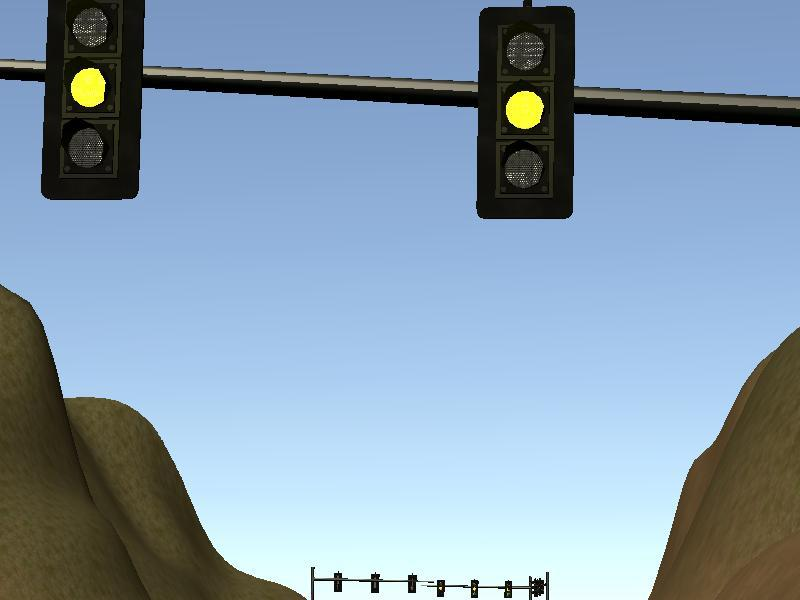Yellow: (480, 9, 572, 214), (45, 2, 140, 196)
